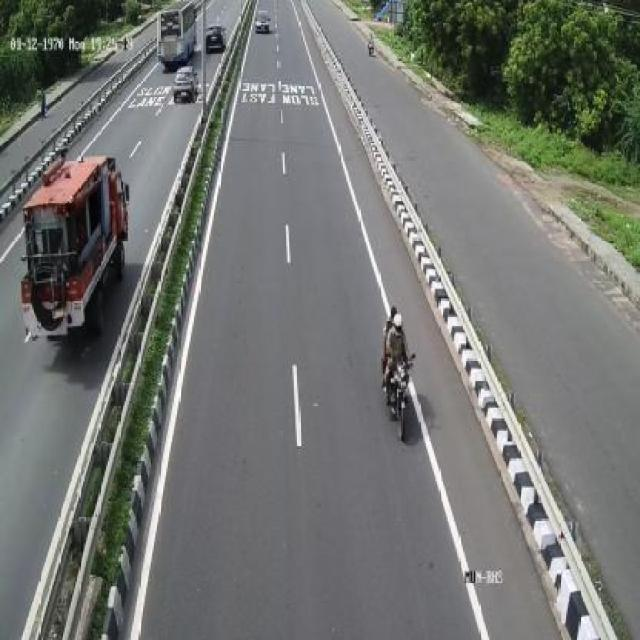car: (174, 66, 198, 106)
